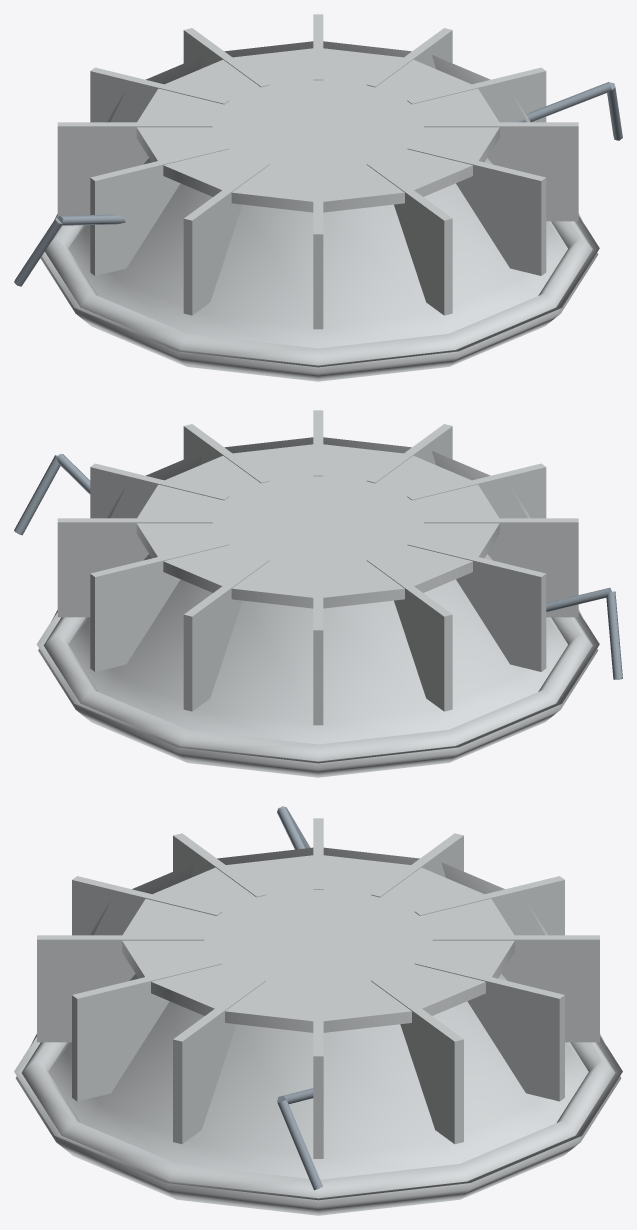
The model's file is source.glb.
3 views of the same model, one above another, from view 1: azimuth 30°, elevation 25°; view 2: azimuth 150°, elevation 25°; view 3: azimuth 270°, elevation 25° (orthographic). The views are drawn at different scales.
Visible parts, largest first — view 1: 粉末涂层铝壳, 机加工金属; view 2: 粉末涂层铝壳, 机加工金属; view 3: 粉末涂层铝壳, 机加工金属.
Boxes of the visible parts, x1,y1,x2,y2 form: 粉末涂层铝壳: [40, 14, 599, 381]; 机加工金属: [14, 82, 622, 286]; 粉末涂层铝壳: [36, 410, 599, 777]; 机加工金属: [14, 454, 622, 679]; 粉末涂层铝壳: [14, 818, 622, 1215]; 机加工金属: [277, 806, 322, 1190].
Bounding box in the file's own units: 0.2867 × 0.0661 × 0.23.
